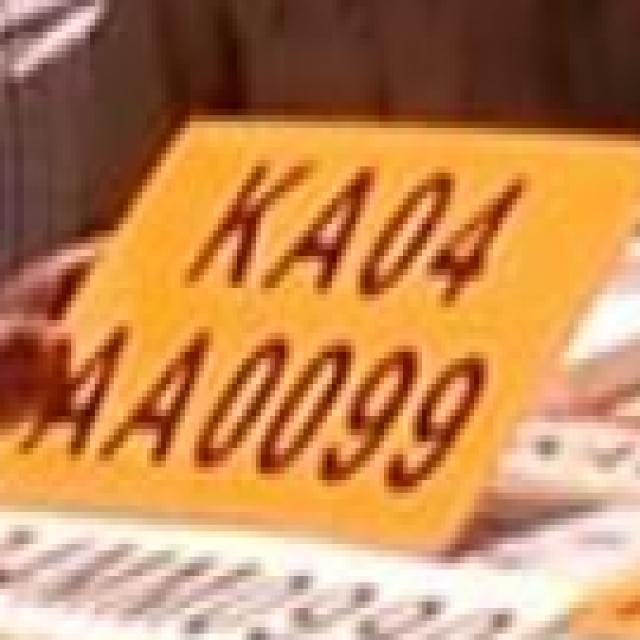0: (227, 335, 375, 498), (171, 333, 309, 486), (338, 157, 474, 311)
4: (410, 159, 552, 321)
9: (368, 345, 509, 514), (299, 339, 438, 498)
A: (89, 308, 238, 474), (12, 297, 145, 462), (253, 152, 394, 300)
K: (171, 149, 331, 301)
